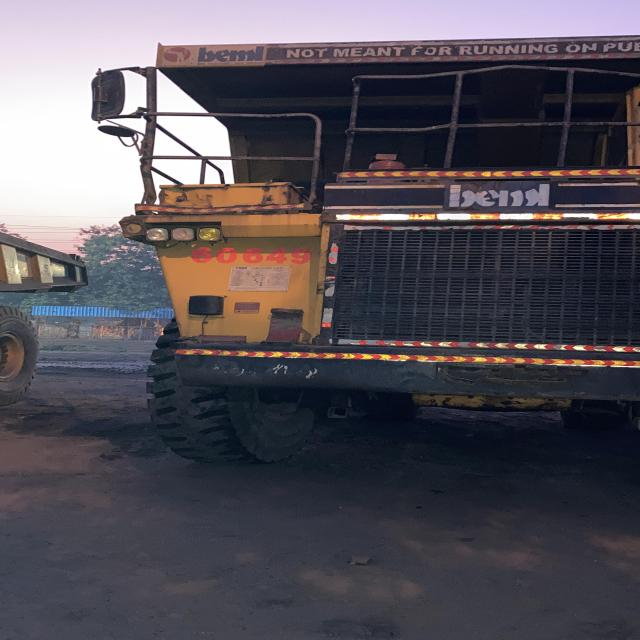dump_truck: (120, 24, 640, 487)
